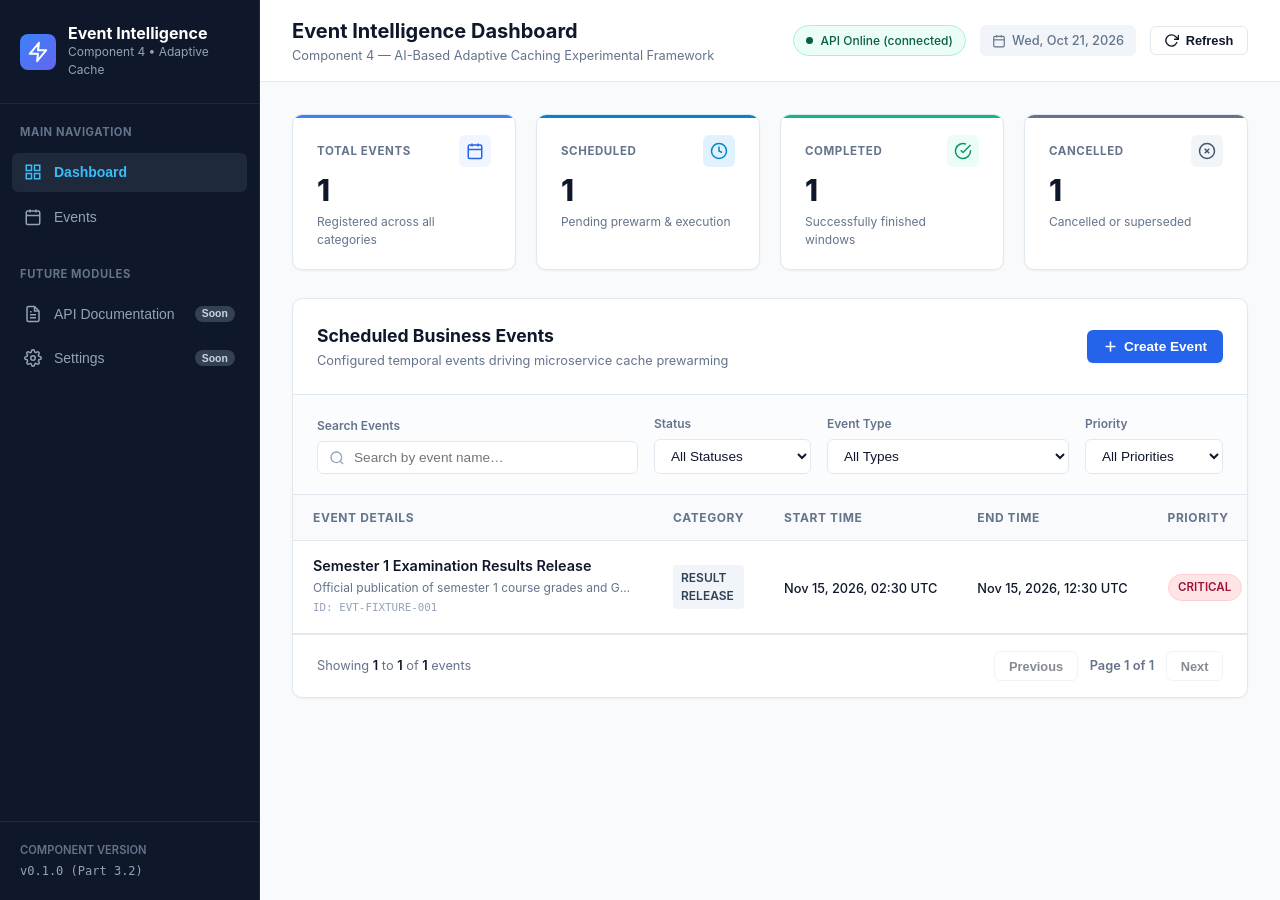
Part 3.4 — Event Details and Lifecycle Actions › 4. Dashboard Integration & Table Interaction › opens the details modal when clicking the event name link in the table
Click the button "Semester 1 Examination Results Release" at (473, 567), box [313, 557, 633, 576]
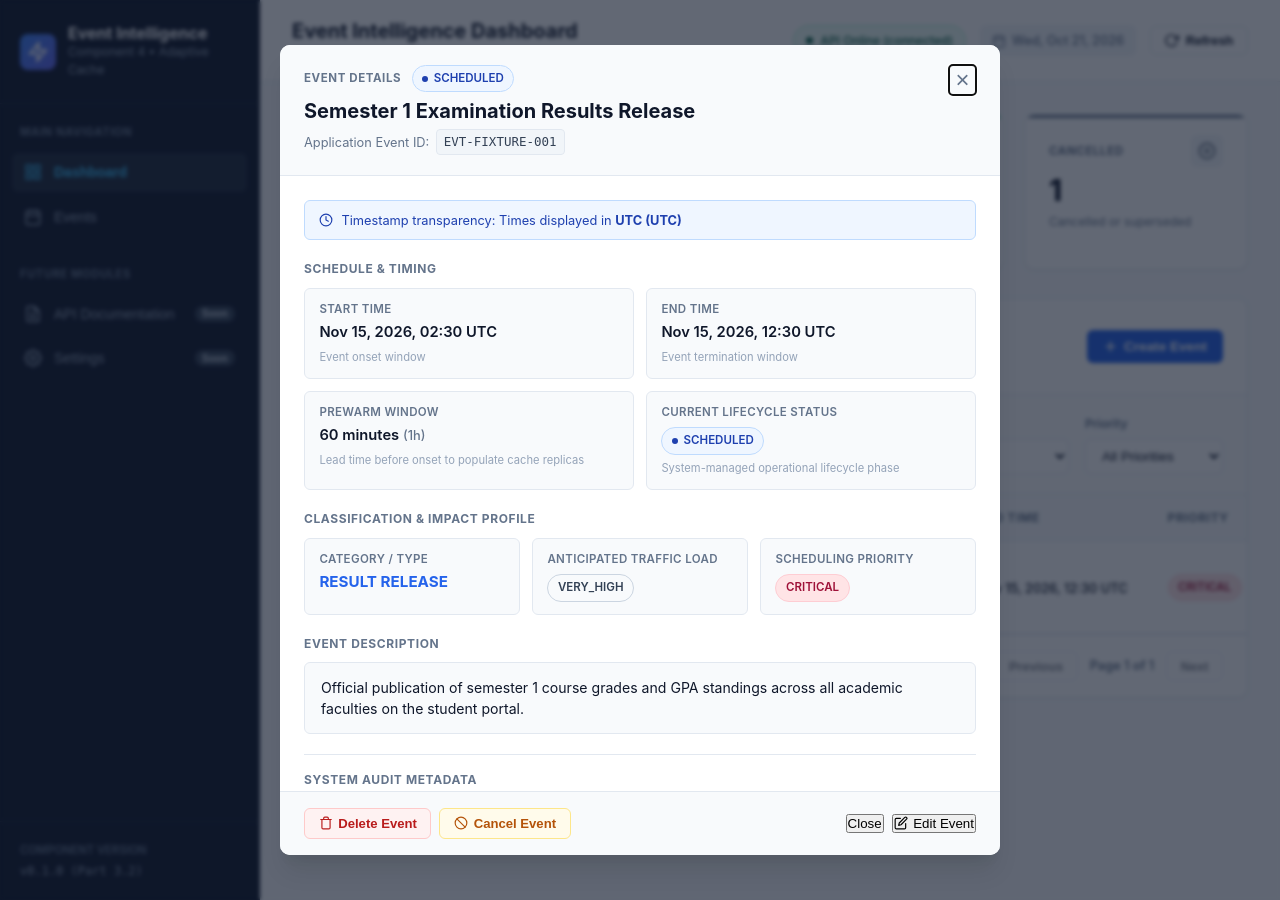
Check: the heading "Schedule & Timing" is shown, box [304, 261, 436, 276]
